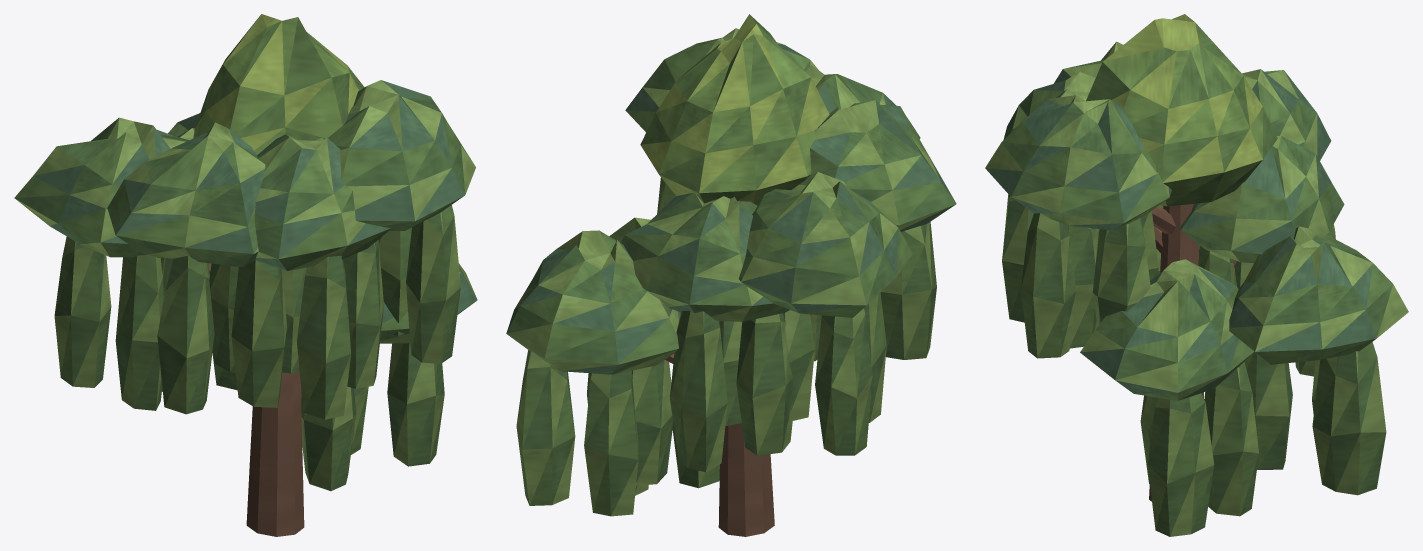
Rendered from tree_willow_01.fbx.
3 views of the same model, side by side, from view 1: azimuth 30°, elevation 25°; view 2: azimuth 150°, elevation 25°; view 3: azimuth 270°, elevation 25° (orthographic). The views are drawn at different scales.
Parts seen in each view (by area): view 1: tree_willow_01; view 2: tree_willow_01; view 3: tree_willow_01.
Boxes of the visible parts, x1,y1,x2,y2 form: tree_willow_01: [14, 14, 477, 536]; tree_willow_01: [506, 14, 956, 536]; tree_willow_01: [985, 14, 1408, 536].
Bounding box in the file's own units: 646 × 830 × 660.
1 material, 1 textured.
